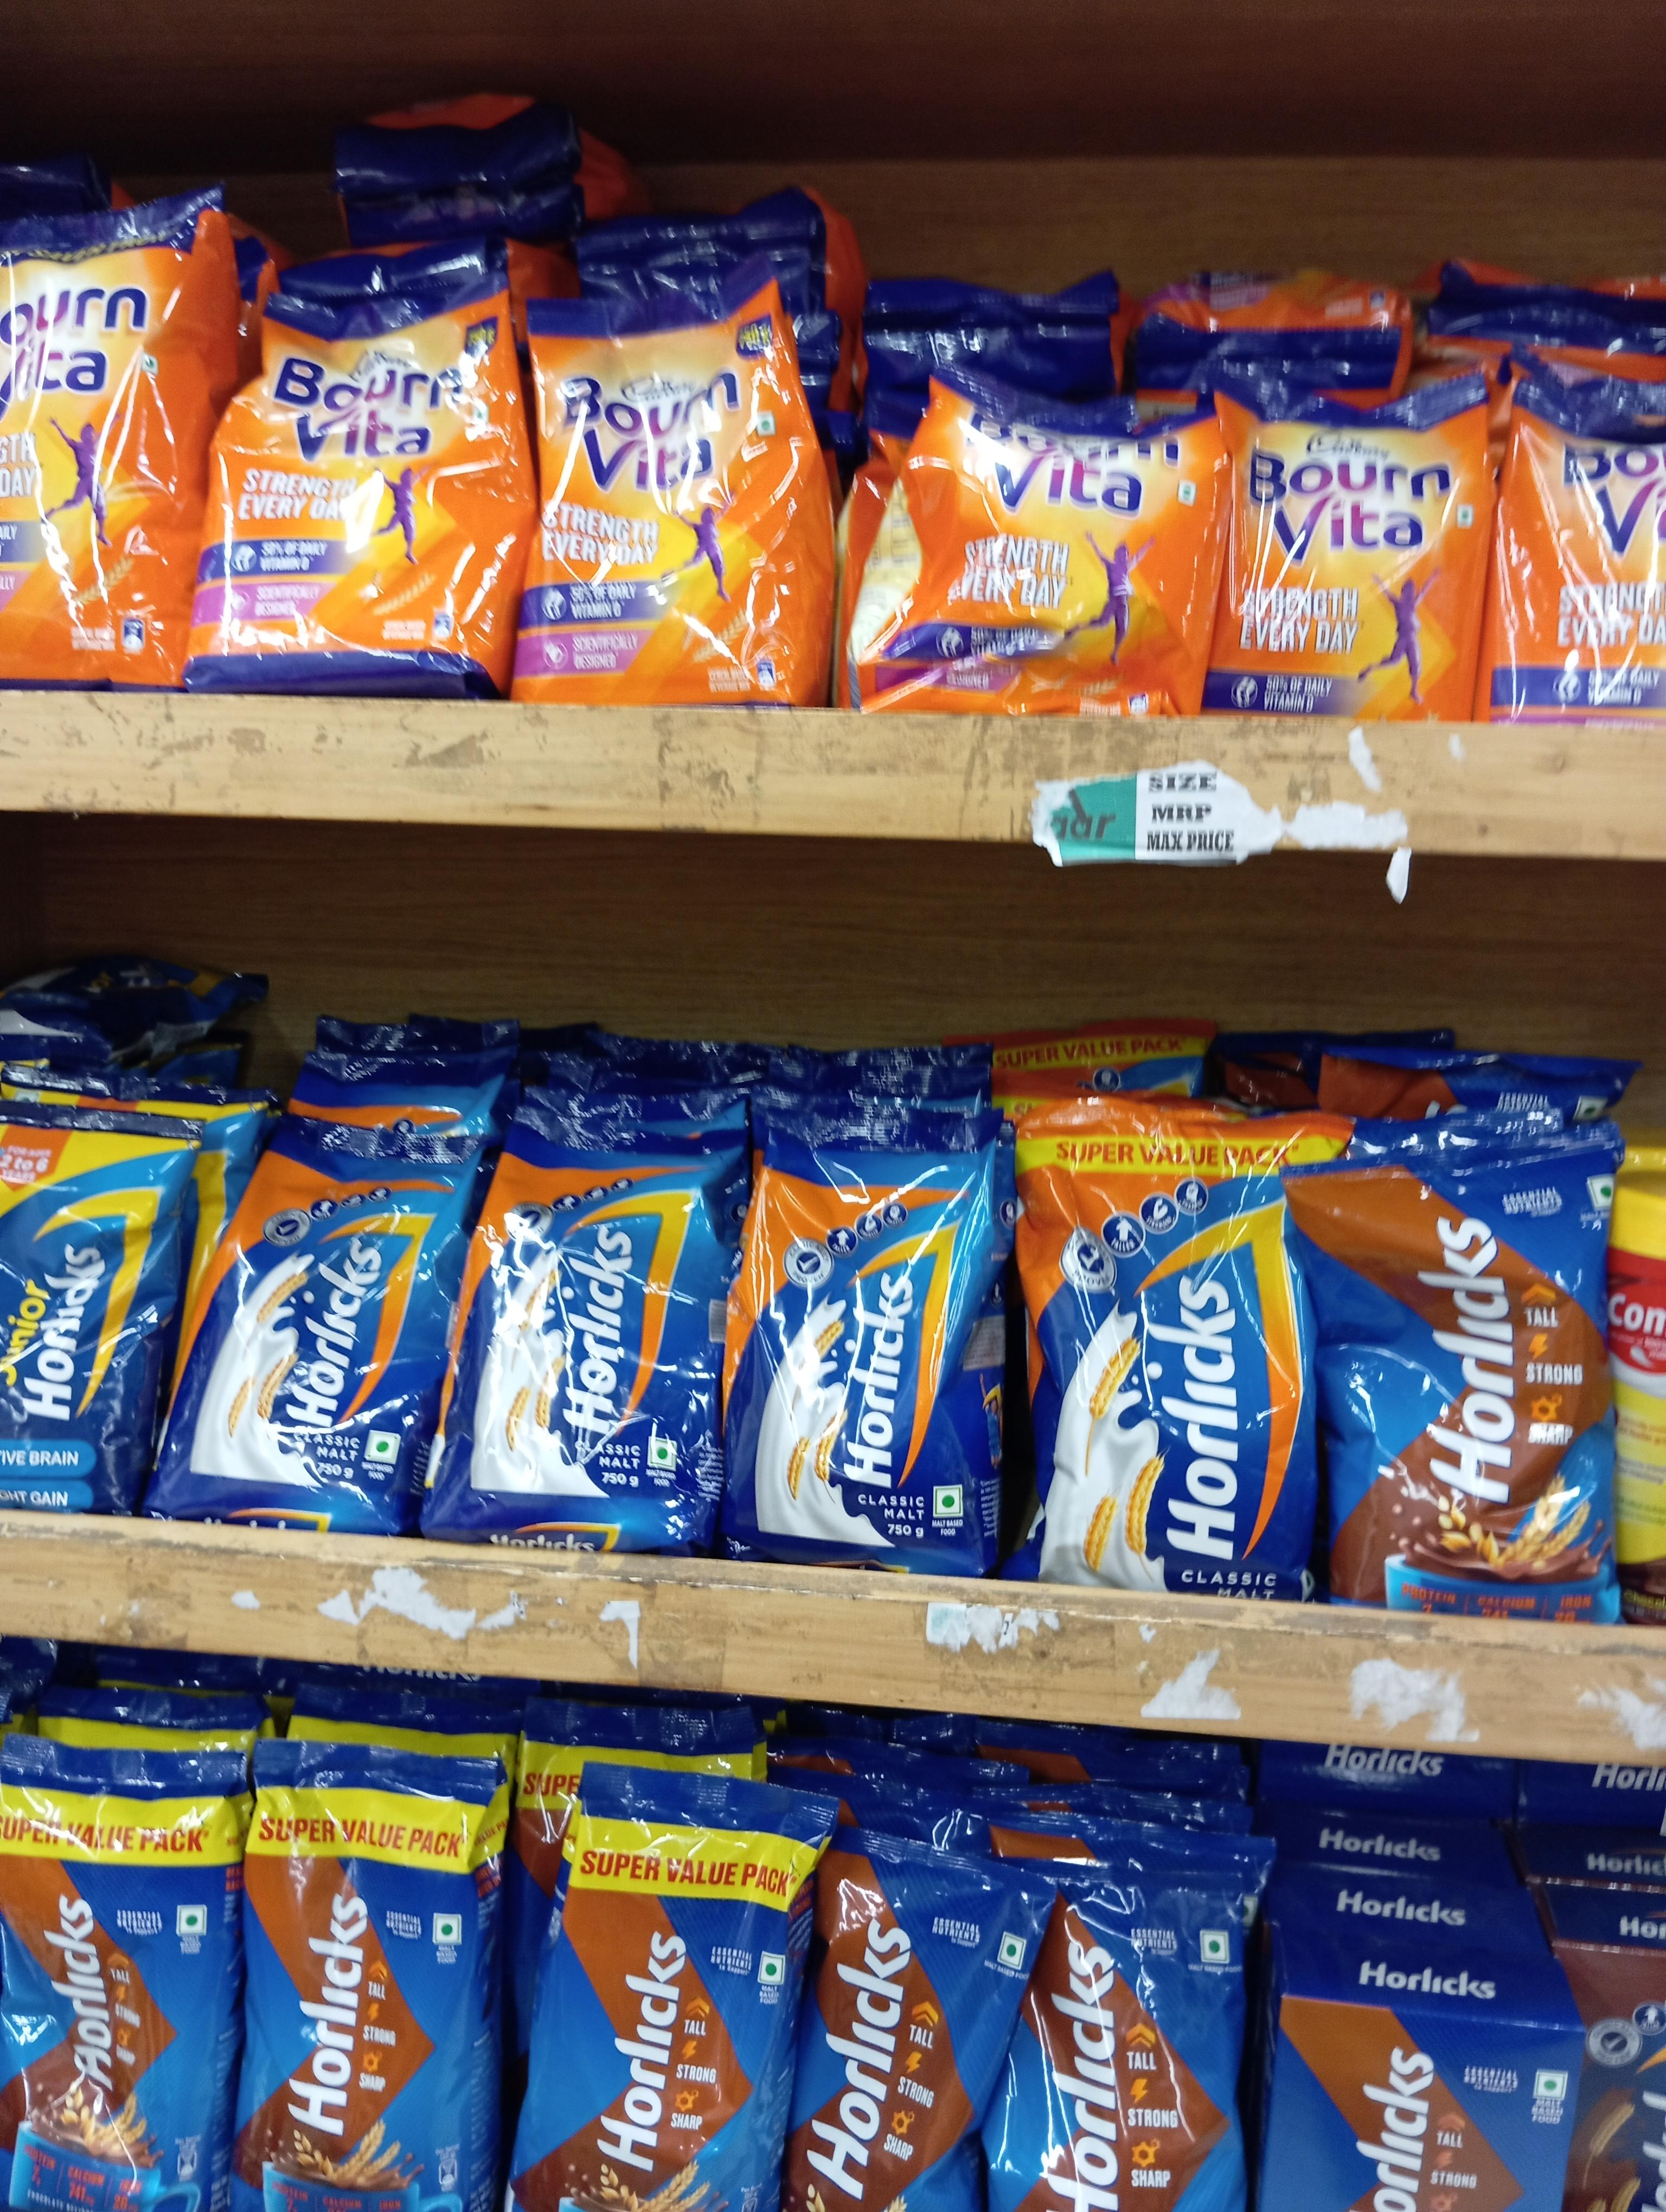BOURN_VITA_1_KG_POUCH: (0, 189, 186, 694)
BOURN_VITA_500_G_POUCH: (880, 358, 1195, 715), (1223, 353, 1465, 719)
BOURN_VITA_750_G_POUCH: (207, 285, 504, 703), (525, 296, 808, 699)
HORLICK_CHOCOLATE_500_G_PACK: (1269, 1985, 1575, 2212)
HORLICK_CHOCOLATE_750_G_POUCH: (1318, 1144, 1622, 1623), (249, 1743, 488, 2212), (537, 1756, 781, 2212), (2, 1728, 229, 2212), (998, 1880, 1242, 2212), (788, 1819, 982, 2212)
HORLICK_CLASSIC_MALT_750_G_POUCH: (1011, 1107, 1306, 1593), (737, 1123, 999, 1569), (457, 1112, 705, 1551), (194, 1098, 401, 1523)
